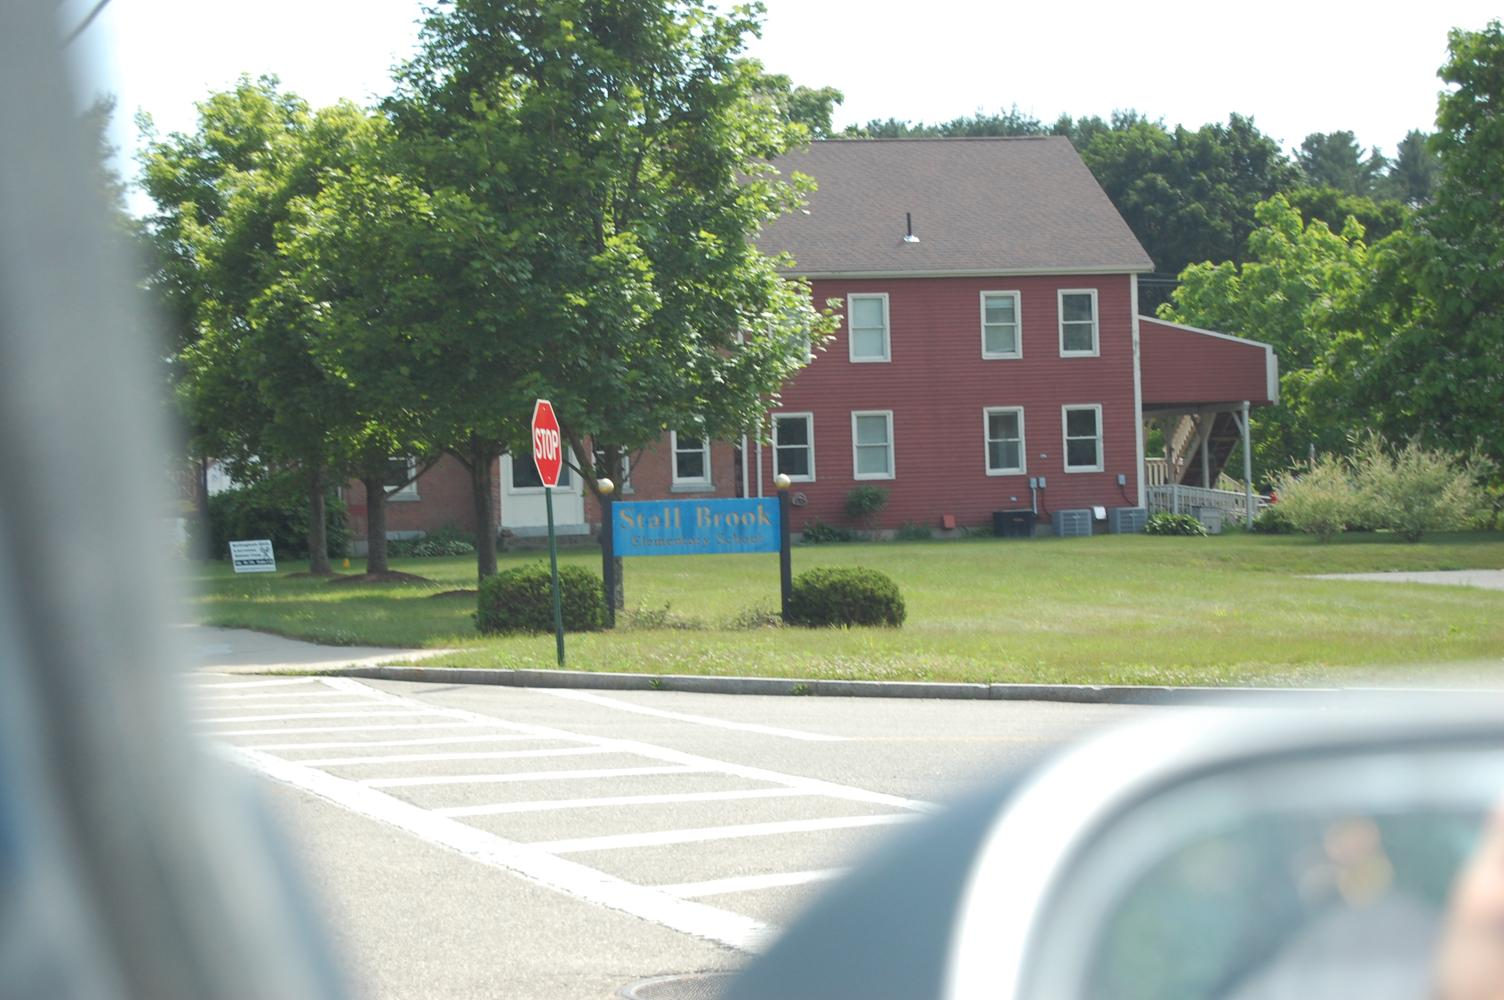stop: (527, 400, 569, 493)
